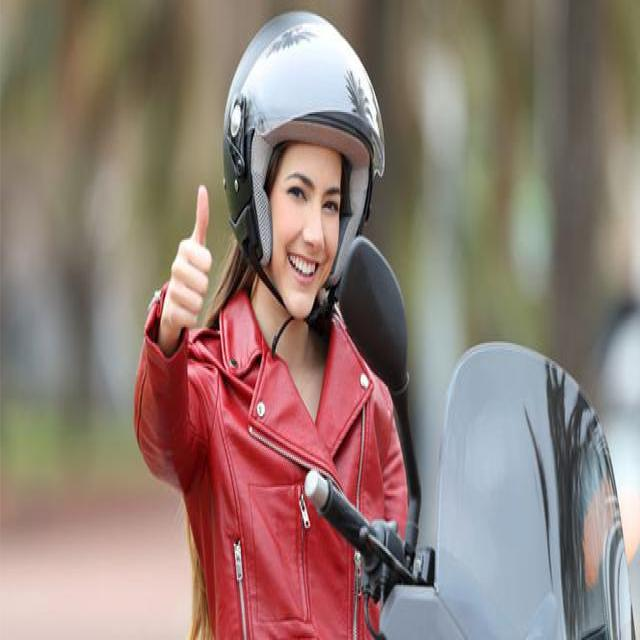Helm: (219, 11, 385, 324)
